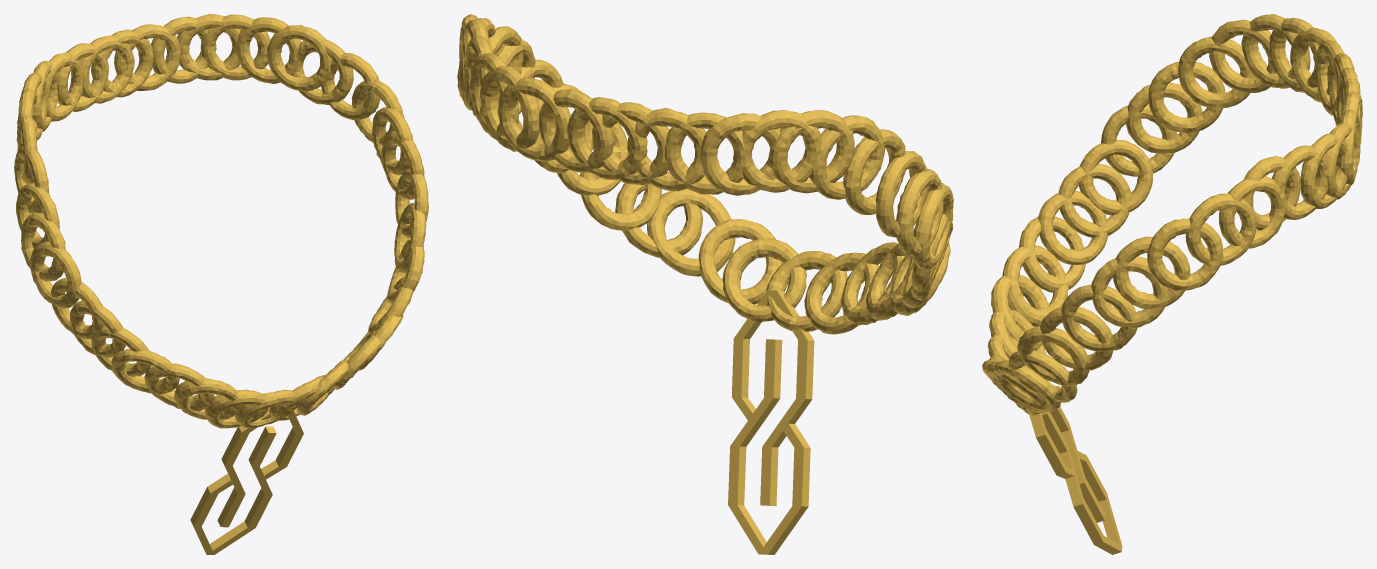
File: GoldChain.fbx
3 renders of one model, left to right at view 1: azimuth 30°, elevation 25°; view 2: azimuth 150°, elevation 25°; view 3: azimuth 270°, elevation 25°, orthographic. The views are drawn at different scales.
Parts seen in each view (by area): view 1: Cube.009; view 2: Cube.009; view 3: Cube.009.
Boxes of the visible parts, bbox=[...] form: Cube.009: bbox=[14, 14, 428, 554]; Cube.009: bbox=[457, 14, 953, 554]; Cube.009: bbox=[982, 14, 1362, 554].
Size of the model in its own units: 214 by 247 by 176.
